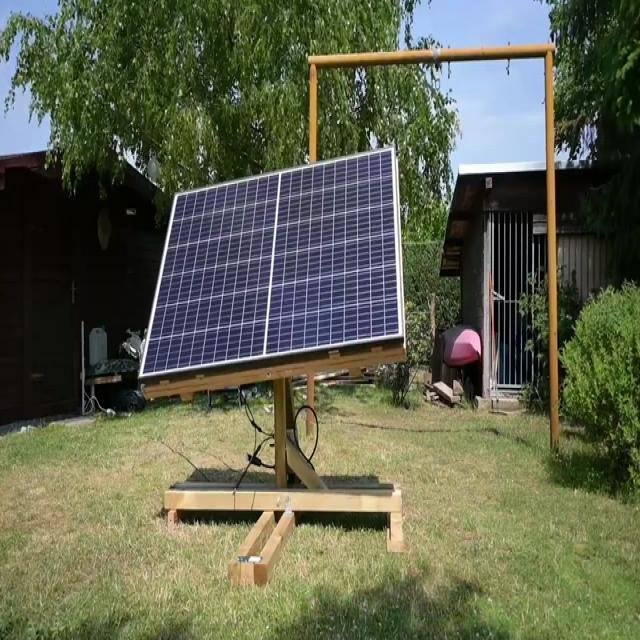Normal Solar Panel: (142, 148, 405, 377)
